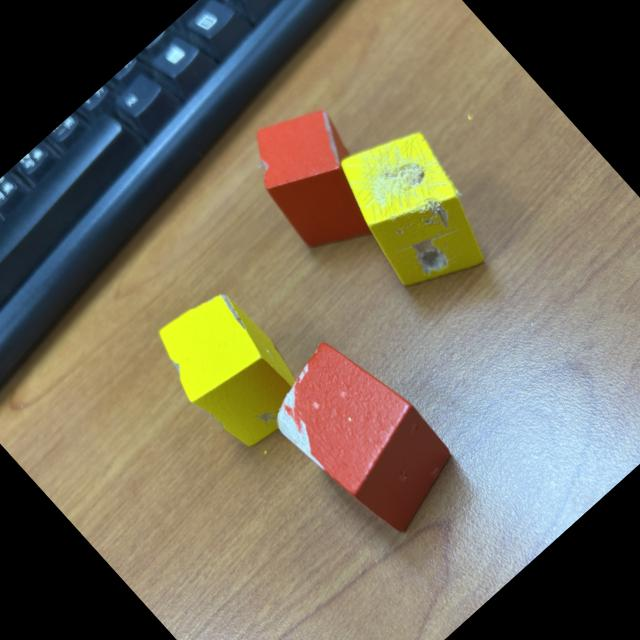broken: (254, 323, 472, 548), (312, 108, 514, 312), (228, 88, 408, 272), (140, 276, 319, 459)
